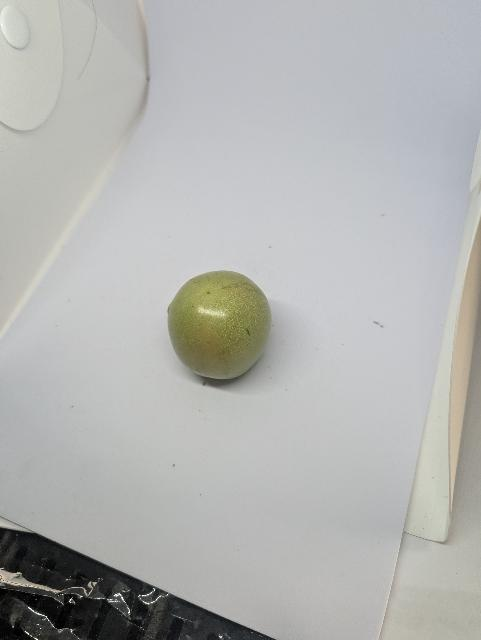green: (166, 268, 274, 382)
